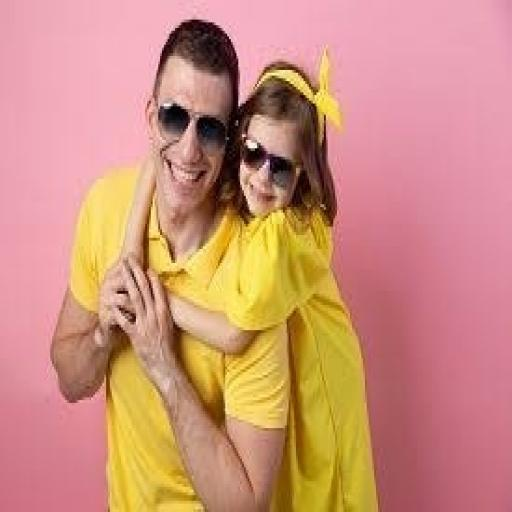hugging: (48, 14, 382, 509)
